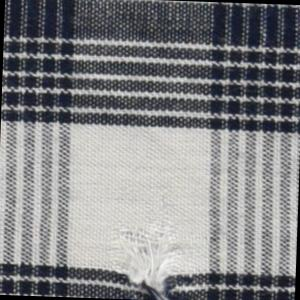Damage: (108, 221, 191, 300)
